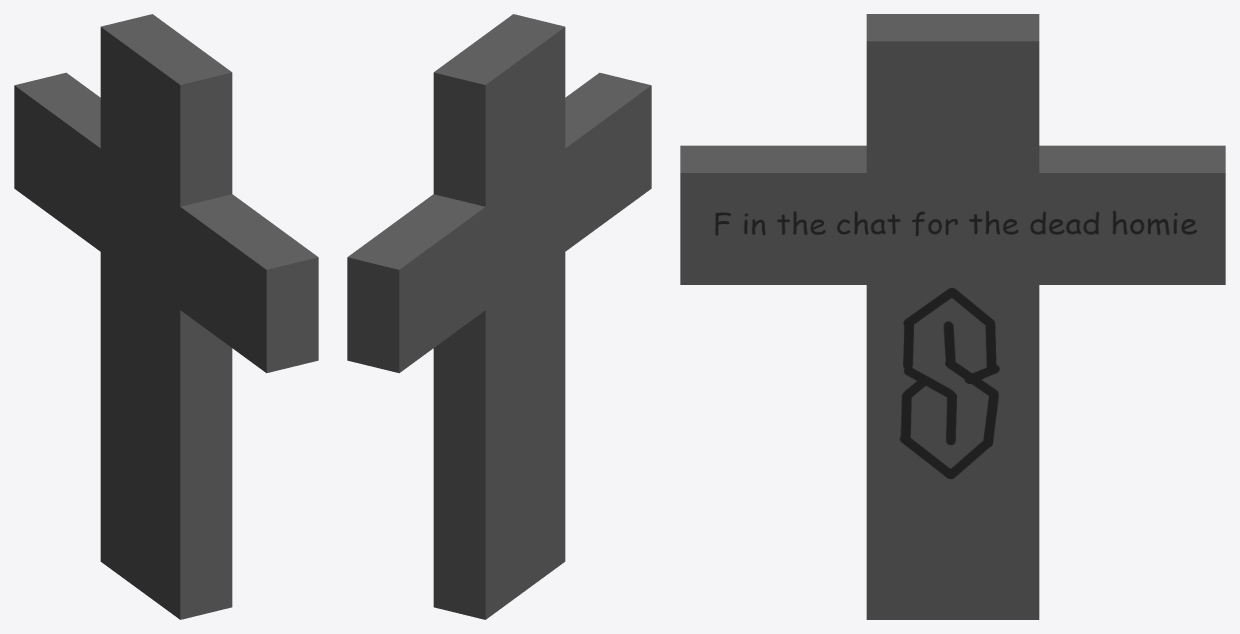
The model's file is Tombstone2.fbx.
3 views of the same model, side by side, from view 1: azimuth 30°, elevation 25°; view 2: azimuth 150°, elevation 25°; view 3: azimuth 270°, elevation 25° (orthographic). The views are drawn at different scales.
Visible parts, largest first — view 1: pCube2; view 2: pCube2; view 3: pCube2.
Part boxes in pixels (box(x1,y1,x2,y2)): pCube2: box(14, 14, 318, 619); pCube2: box(347, 14, 651, 619); pCube2: box(680, 14, 1225, 619).
Size of the model in its own units: 0.3135 by 3.08 by 2.63.
